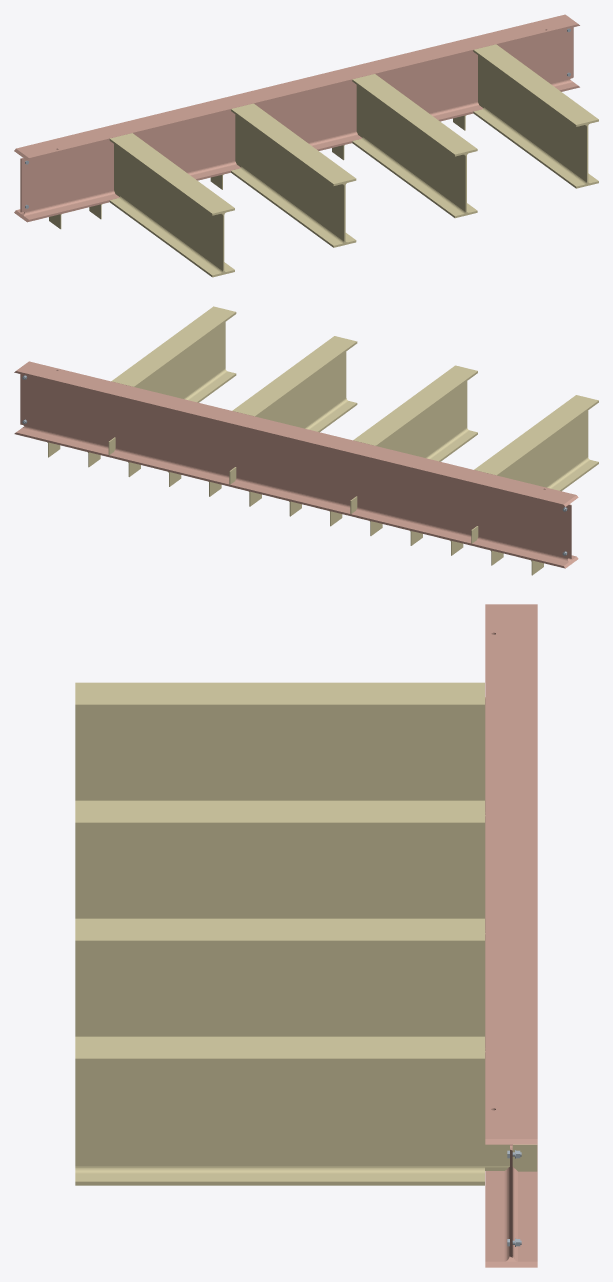
3 renders of one model, top to bottom at view 1: azimuth 30°, elevation 25°; view 2: azimuth 150°, elevation 25°; view 3: azimuth 270°, elevation 25°, orthographic. The views are drawn at different scales.
Visible parts, largest first — view 1: product-47ee1f05-e63b-4315-8dd9-027a4e751db0-body, product-4921c86e-91c1-4deb-8f6e-1f3fb9c3b53e-body, product-dd7f26ac-92de-496a-8ef5-dea3ae311342-body, product-03c28111-8b76-4abc-bb02-8379e783a0ee-body, product-c62f1b65-dead-4c1b-b88d-28c460142175-body; view 2: product-47ee1f05-e63b-4315-8dd9-027a4e751db0-body, product-03c28111-8b76-4abc-bb02-8379e783a0ee-body, product-c62f1b65-dead-4c1b-b88d-28c460142175-body, product-dd7f26ac-92de-496a-8ef5-dea3ae311342-body, product-4921c86e-91c1-4deb-8f6e-1f3fb9c3b53e-body; view 3: product-4921c86e-91c1-4deb-8f6e-1f3fb9c3b53e-body, product-03c28111-8b76-4abc-bb02-8379e783a0ee-body, product-c62f1b65-dead-4c1b-b88d-28c460142175-body, product-dd7f26ac-92de-496a-8ef5-dea3ae311342-body, product-47ee1f05-e63b-4315-8dd9-027a4e751db0-body.
Boxes of the visible parts, x1,y1,x2,y2 form: product-47ee1f05-e63b-4315-8dd9-027a4e751db0-body: (14, 14, 579, 222); product-4921c86e-91c1-4deb-8f6e-1f3fb9c3b53e-body: (473, 44, 598, 188); product-dd7f26ac-92de-496a-8ef5-dea3ae311342-body: (352, 74, 477, 218); product-03c28111-8b76-4abc-bb02-8379e783a0ee-body: (109, 133, 234, 277); product-c62f1b65-dead-4c1b-b88d-28c460142175-body: (231, 103, 356, 247); product-47ee1f05-e63b-4315-8dd9-027a4e751db0-body: (14, 361, 578, 568); product-03c28111-8b76-4abc-bb02-8379e783a0ee-body: (474, 395, 598, 491); product-c62f1b65-dead-4c1b-b88d-28c460142175-body: (353, 365, 477, 461); product-dd7f26ac-92de-496a-8ef5-dea3ae311342-body: (232, 336, 357, 432); product-4921c86e-91c1-4deb-8f6e-1f3fb9c3b53e-body: (111, 306, 236, 402); product-4921c86e-91c1-4deb-8f6e-1f3fb9c3b53e-body: (75, 1036, 509, 1185); product-03c28111-8b76-4abc-bb02-8379e783a0ee-body: (75, 682, 485, 814); product-c62f1b65-dead-4c1b-b88d-28c460142175-body: (75, 800, 485, 932); product-dd7f26ac-92de-496a-8ef5-dea3ae311342-body: (75, 918, 485, 1050); product-47ee1f05-e63b-4315-8dd9-027a4e751db0-body: (485, 604, 537, 1267).
Size of the model in its own units: 5.56 by 0.7645 by 2.02.
